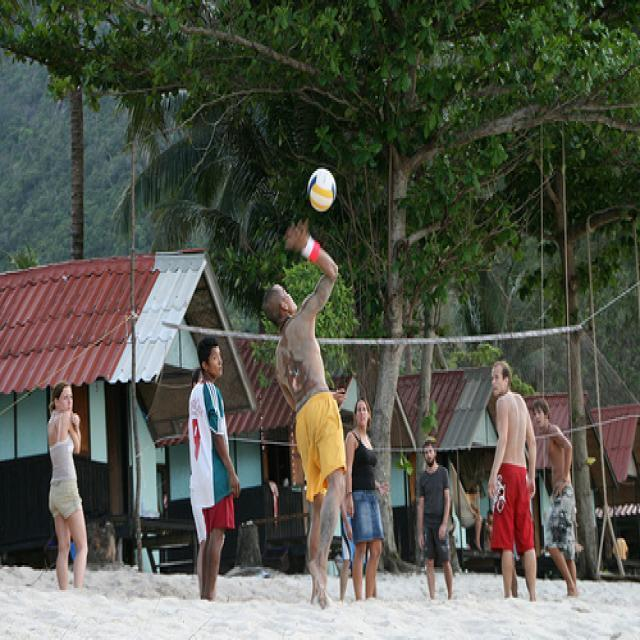volleyball: (306, 168, 337, 212)
